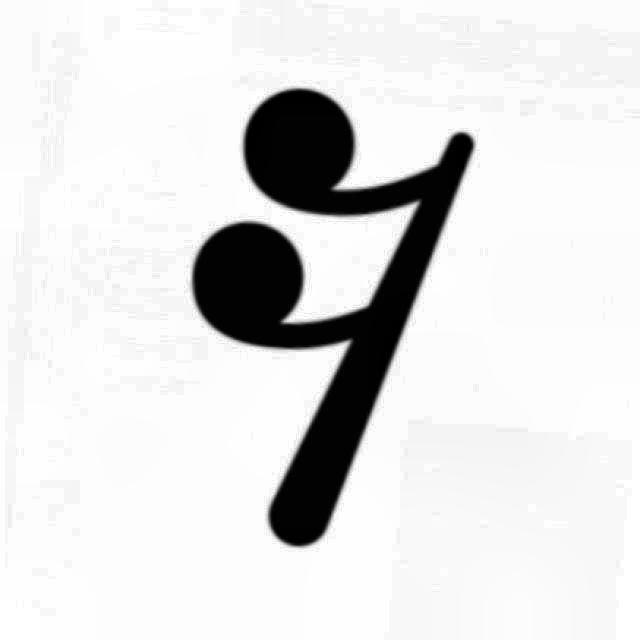Eighth-rest: (177, 66, 487, 558)
